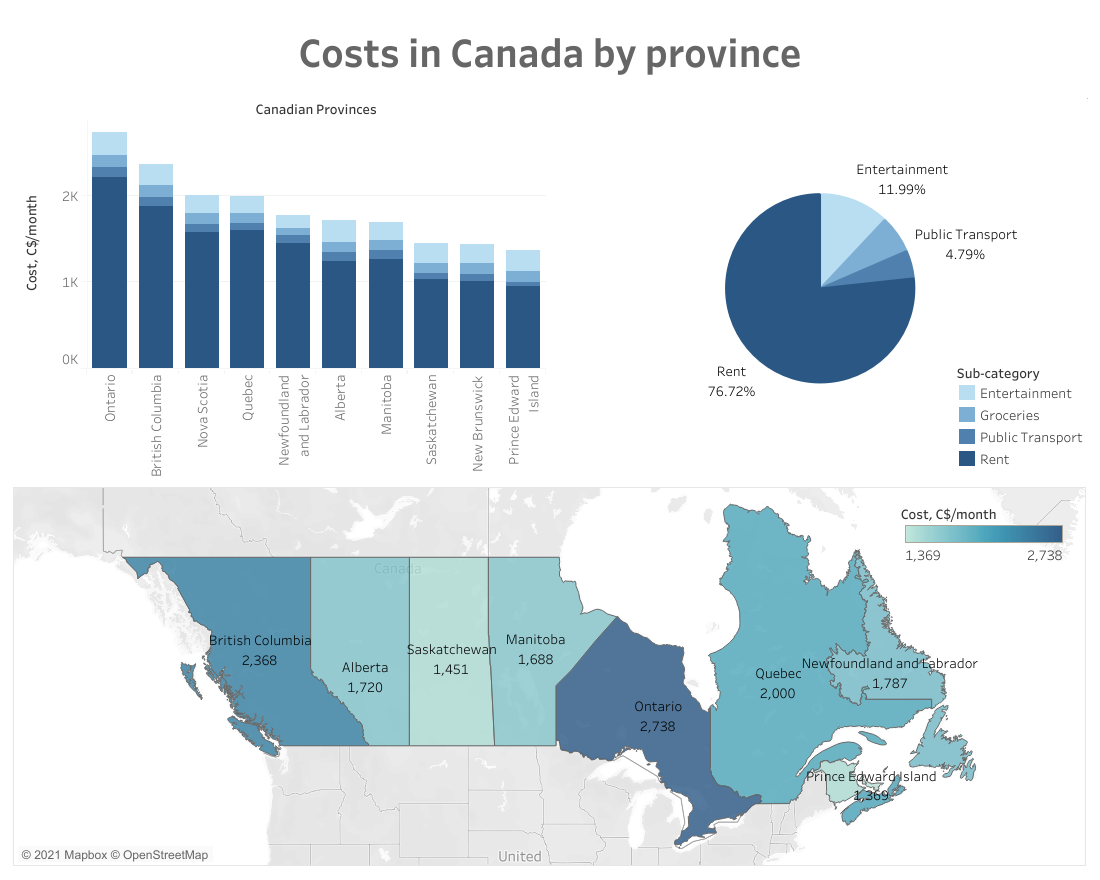

The dashboard page shown, as its layout file describes it:
{"tool":"tableau","page":{"name":"Dashboard 1","canvas":[1000,800],"ordinal":0},"visuals":[{"type":"worksheet","box":[0,0,1000,800]},{"type":"worksheet","box":[8,8,984,77]},{"type":"worksheet","param":"horz","box":[8,85,984,707]},{"type":"worksheet","box":[8,85,984,707]},{"type":"worksheet","title":"Bar","mark":"Automatic","rows":["Cost, С$/month"],"cols":["Canadian Provinces"],"box":[8,85,492,354]},{"type":"worksheet","title":"Pie","mark":"Pie","box":[500,85,492,354]},{"type":"worksheet","title":"Map","mark":"Automatic","box":[8,439,984,353]},{"type":"worksheet","title":"Map","mark":"Automatic","param":"[federated.0t5hdcn1bvrnbd0zuppm010jc9af].[sum:Cost, С$/month:qk]","box":[819,454,152,80]}]}

Visuals, with their boxes in screenshot pixels (x1, y1, x2, y2), scaled from the page's 1000x800 canvas onto the 1100x880 screenshot:
worksheet: (0,0,1099,879)
worksheet: (9,9,1091,94)
worksheet: (9,94,1091,871)
worksheet: (9,94,1091,871)
"Bar" worksheet: (9,94,550,483)
"Pie" worksheet (Pie marks): (550,94,1091,483)
"Map" worksheet: (9,483,1091,871)
"Map" worksheet: (901,499,1068,587)
